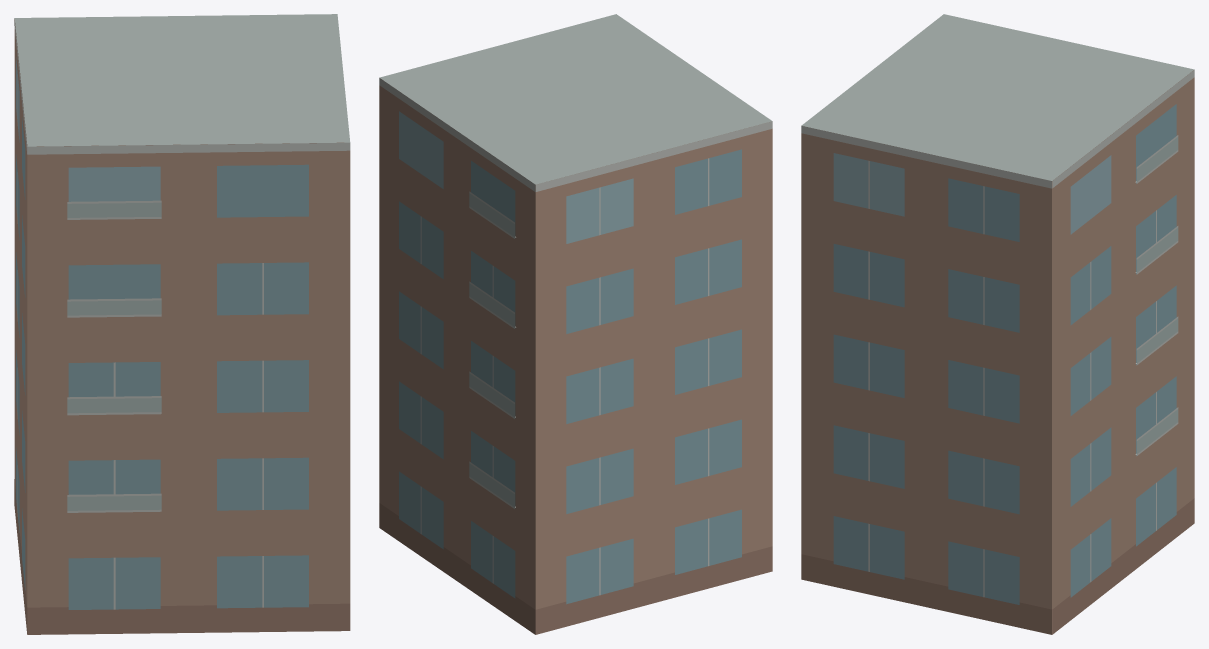
File: survey-upis-32657522.glb
3 renders of one model, left to right at view 1: azimuth 30°, elevation 25°; view 2: azimuth 150°, elevation 25°; view 3: azimuth 270°, elevation 25°, orthographic. The views are drawn at different scales.
Visible parts, largest first — view 1: survey-upis-32657522.tmp; view 2: survey-upis-32657522.tmp; view 3: survey-upis-32657522.tmp.
Part boxes in pixels (x1,y1,x2,y2): survey-upis-32657522.tmp: [14, 14, 350, 634]; survey-upis-32657522.tmp: [379, 14, 772, 634]; survey-upis-32657522.tmp: [801, 14, 1194, 634].
Bounding box in the file's own units: 11.54 × 14.6 × 11.48.
